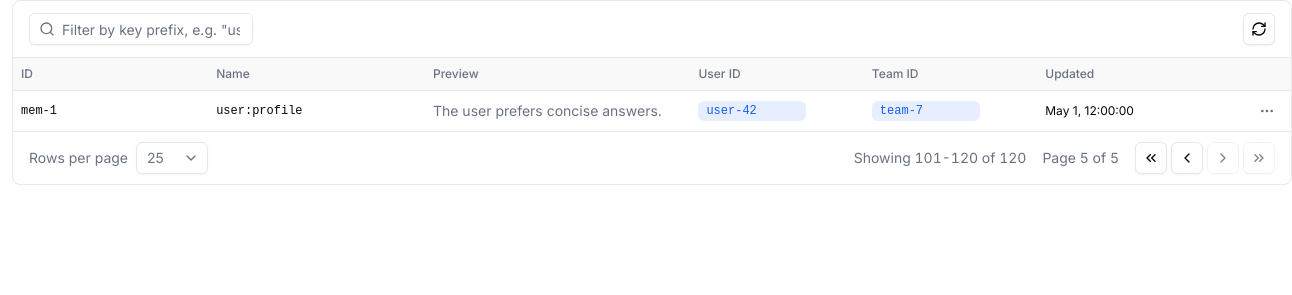
MemoryTable › keeps the page in range when the rows-per-page selector shrinks the page count
Expected: the text with test id "pagination-page" reads "Page 5 of 5", x1=1042 y1=148 x2=1119 y2=168
Click the dropdown with test id "pagination-page-size" at point(172, 158), box x1=136 y1=142 x2=208 y2=174
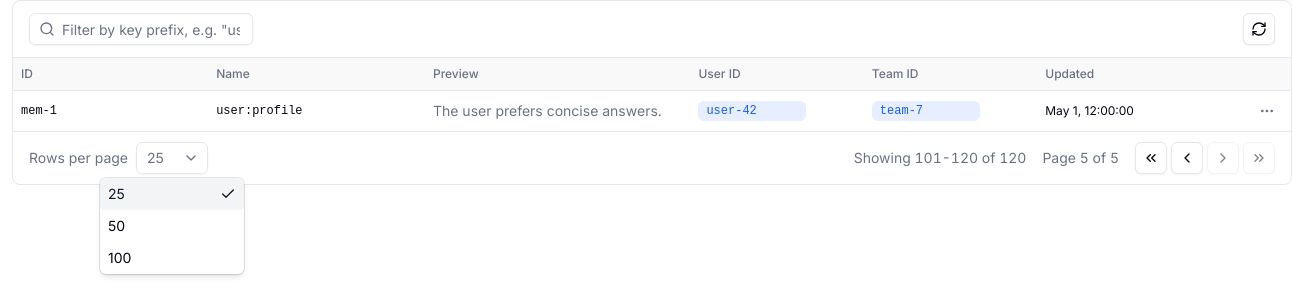
Click the option "100" at point(120, 258), box x1=108 y1=249 x2=131 y2=266
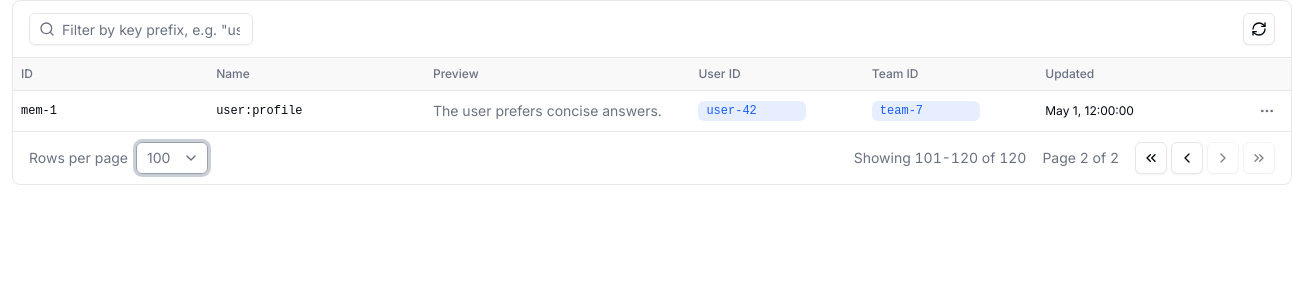
Now the text with test id "pagination-page" reads "Page 2 of 2", box x1=1042 y1=148 x2=1119 y2=168
